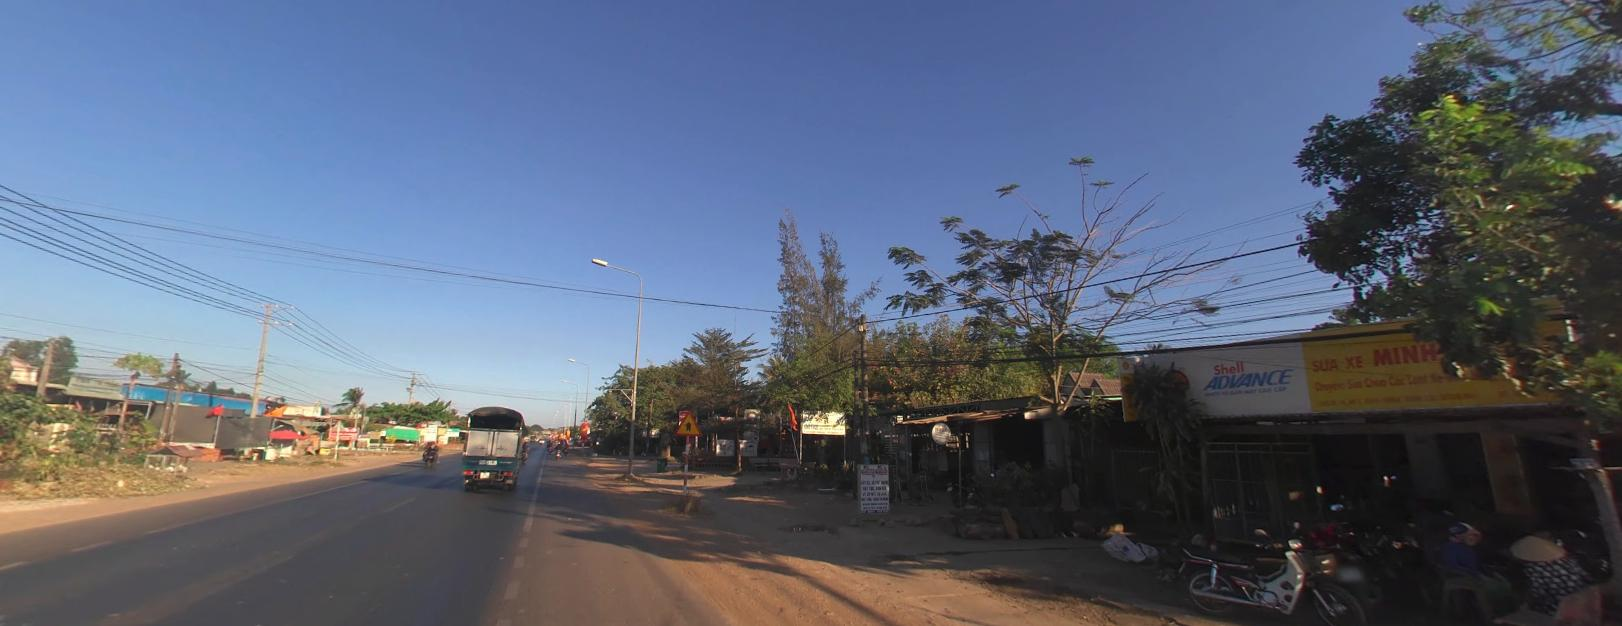Nguy hiem: (672, 410, 702, 436)
